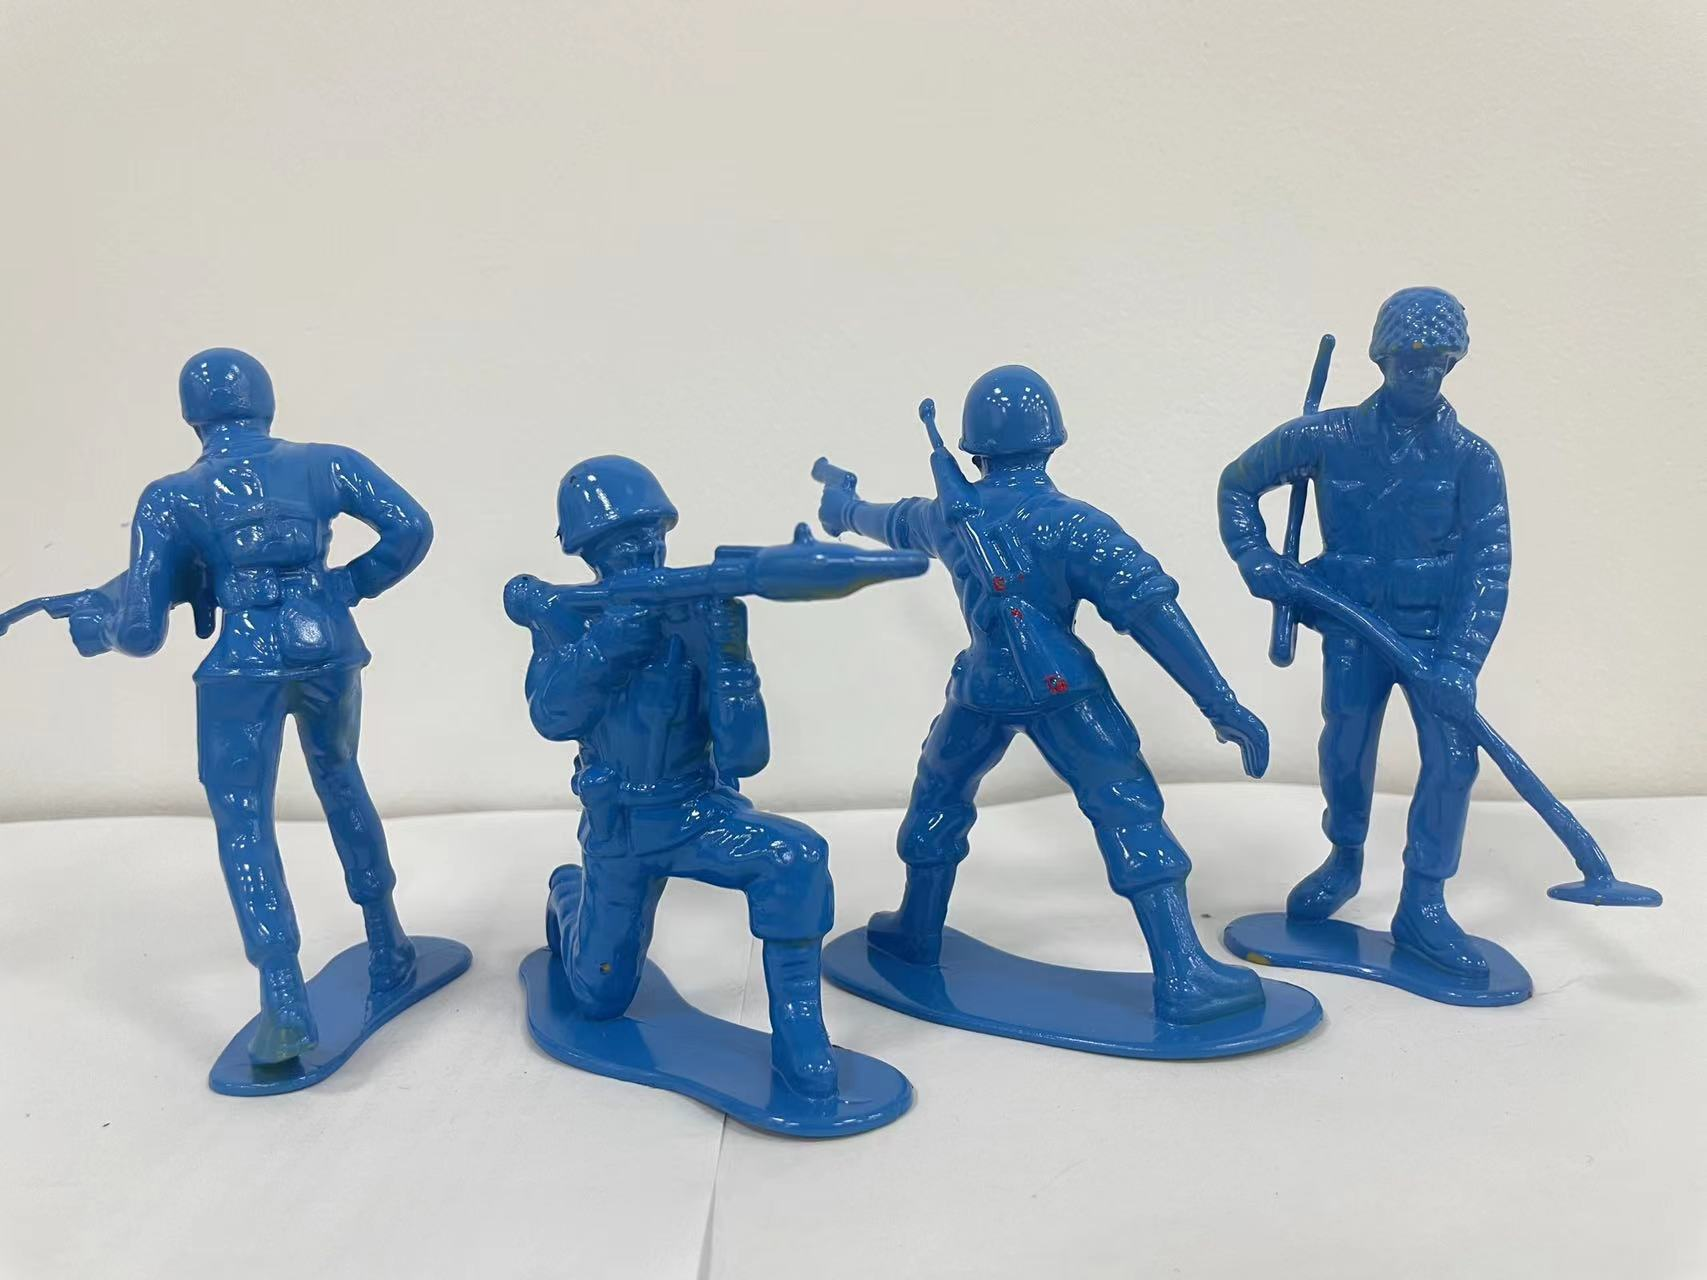blue: (1191, 253, 1683, 1072), (829, 311, 1239, 1101), (491, 418, 886, 1170)
